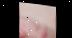plaque psoriasis: (34, 26, 49, 38), (17, 28, 24, 38)
